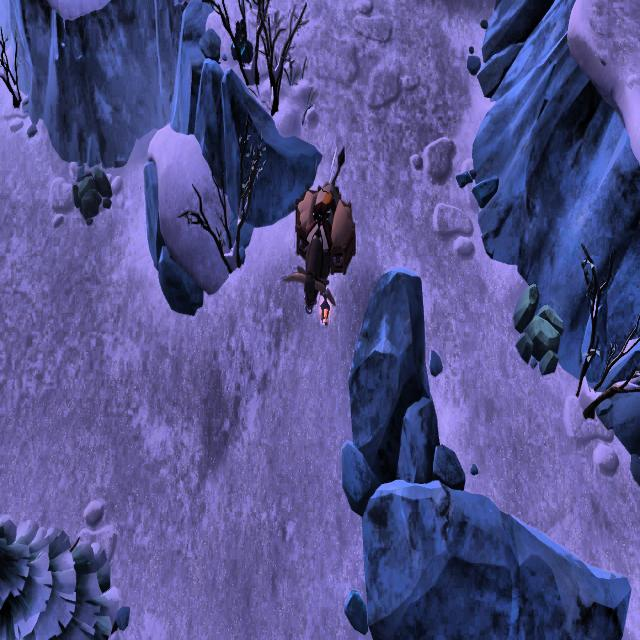ore_t4: (232, 17, 250, 55)
rock_t3: (508, 280, 565, 384), (66, 163, 115, 221)
